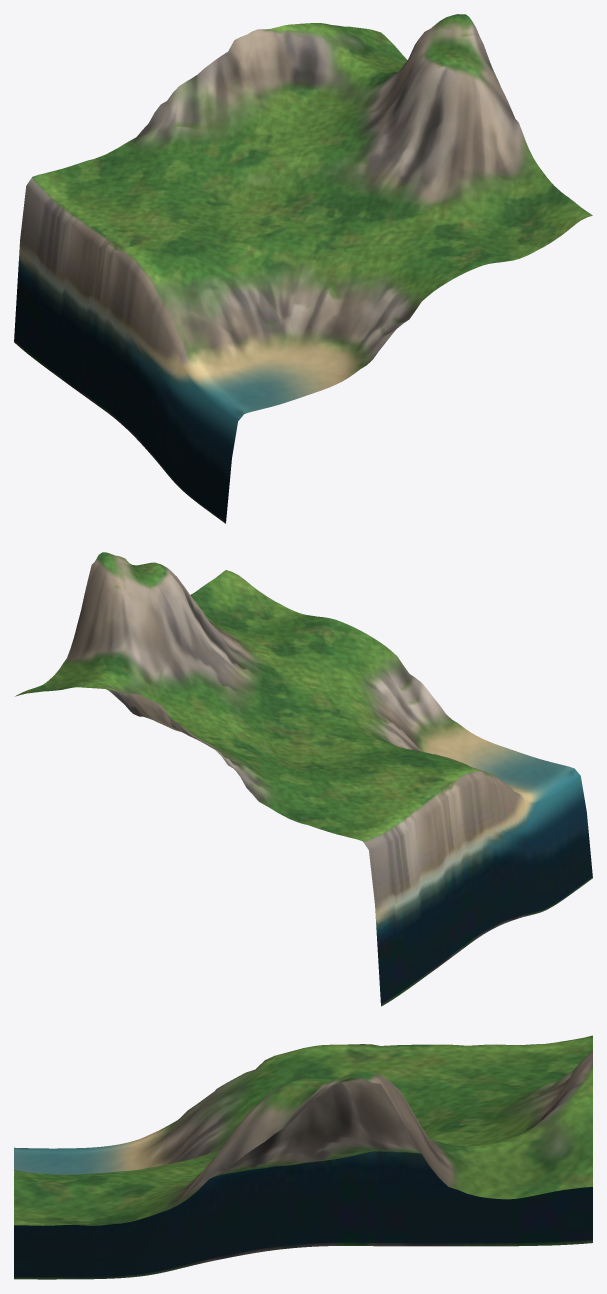
3 views of the same model, one above another, from view 1: azimuth 30°, elevation 25°; view 2: azimuth 150°, elevation 25°; view 3: azimuth 270°, elevation 25° (orthographic). The views are drawn at different scales.
Visible parts, largest first — view 1: t000_064; view 2: t000_064; view 3: t000_064.
Part boxes in pixels (<box>): t000_064: <box>14,14,592,523</box>; t000_064: <box>15,552,592,1006</box>; t000_064: <box>14,1035,592,1279</box>.
Size of the model in its own units: 64 by 54.48 by 64.
1 material, 1 textured.
